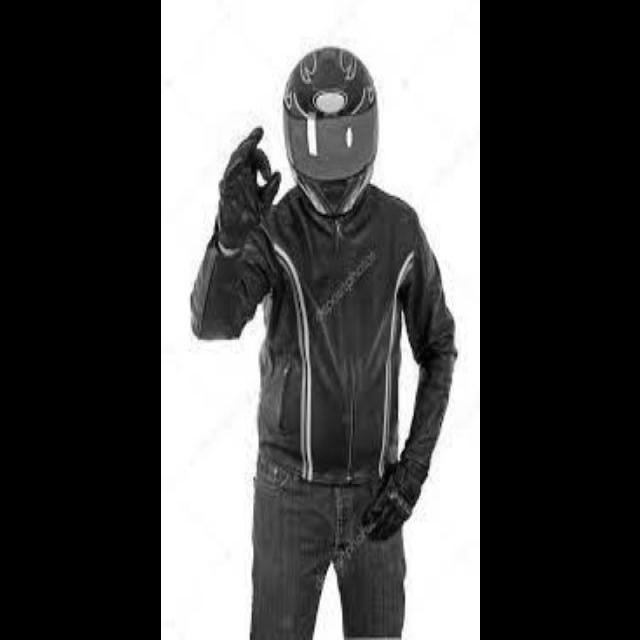5_casco: (273, 41, 383, 220)
